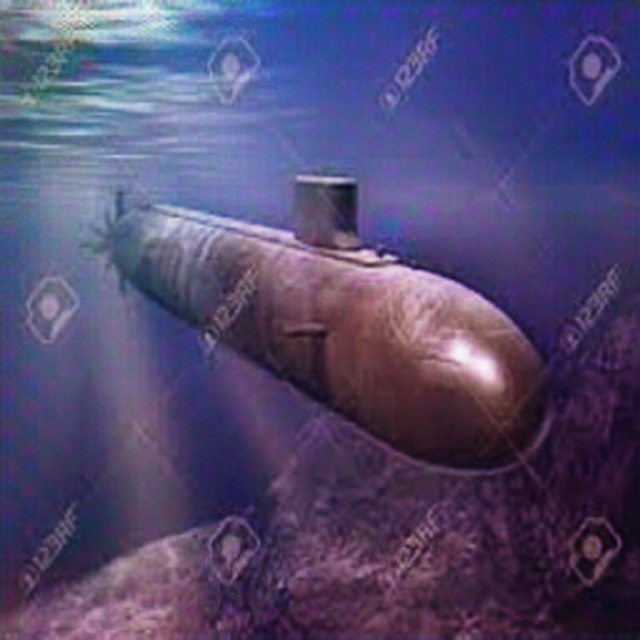submarine: (82, 154, 564, 474)
